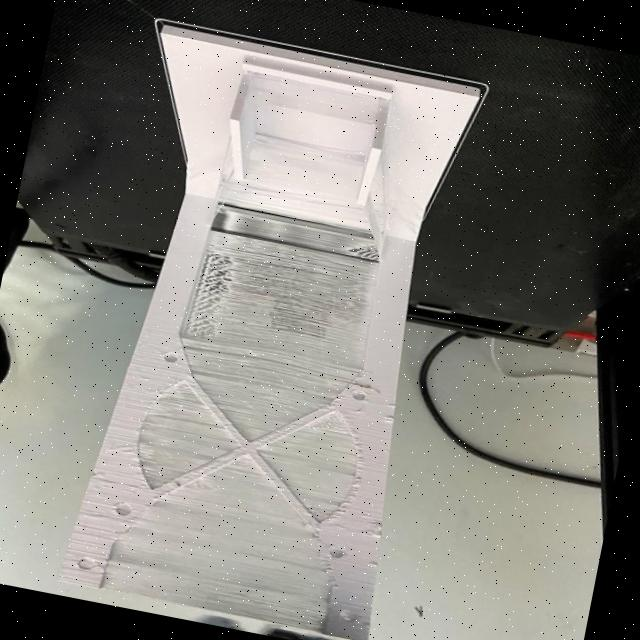stringing: (95, 221, 396, 630)
